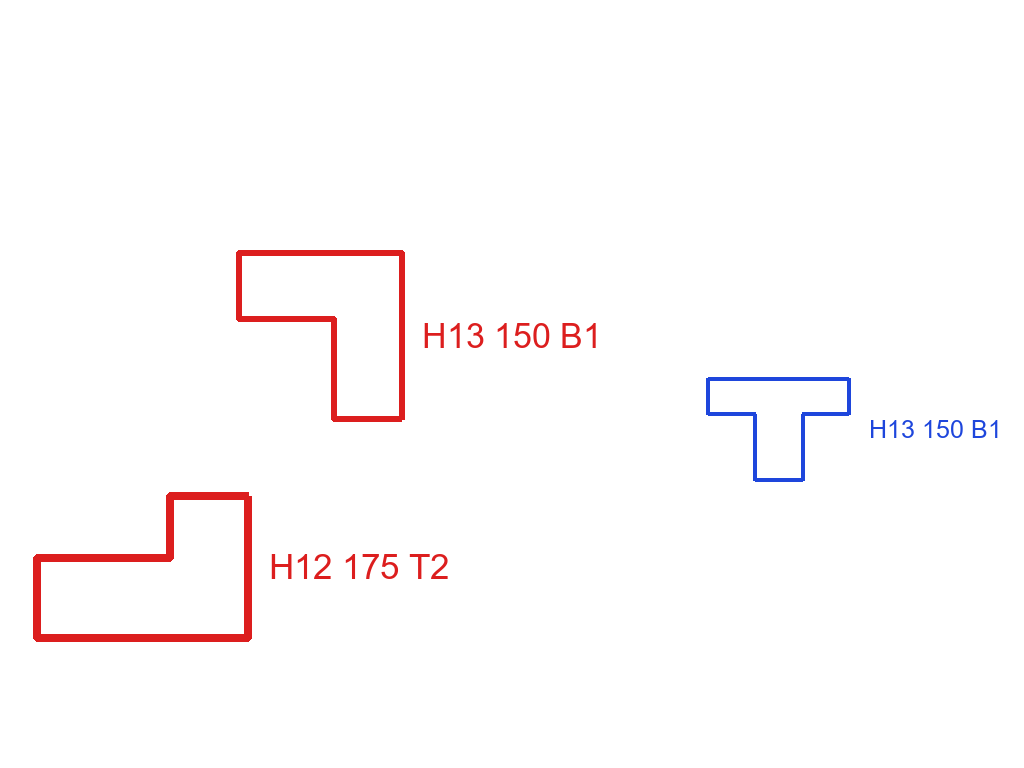shape: (30, 490, 255, 644), (234, 248, 407, 424), (705, 375, 853, 484)
text: (420, 321, 604, 350), (267, 552, 451, 581), (867, 418, 1004, 440)
